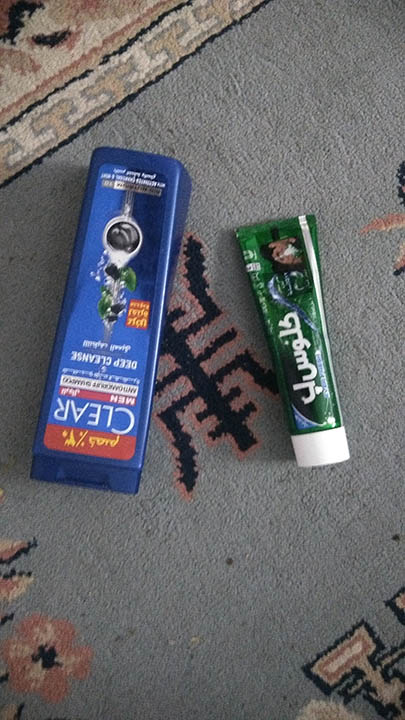Shampoo-Clear 4.7$: (46, 136, 181, 486)
Toothpaste-Closeup 3.04$: (228, 206, 361, 472)
